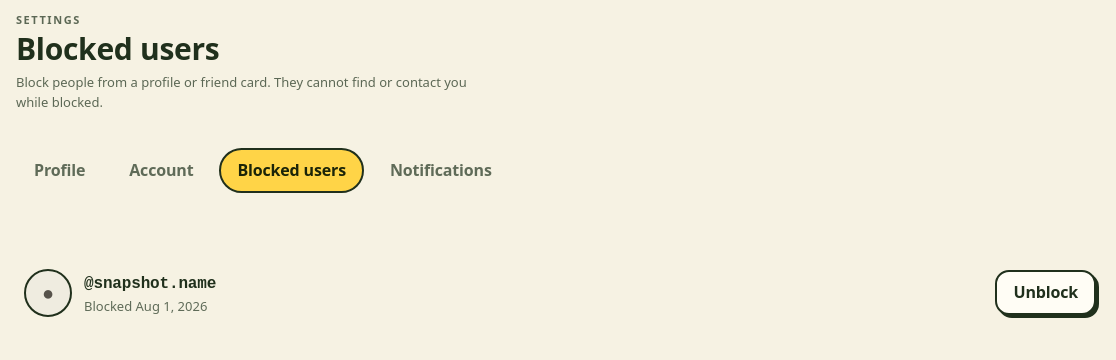
BlockedUsersPageTests › BlockAndUnblock_AreAvailableInTheWebMvp_D059
Check: the text "Block people from a profile or friend card" is shown, box left=16, top=72, right=467, bottom=111
What coordinates should you click on to do the following:
click the button with aria-label "Unblock @snapshot.name"
I would click on:
 (1046, 293)
Its box is left=996, top=270, right=1096, bottom=315.
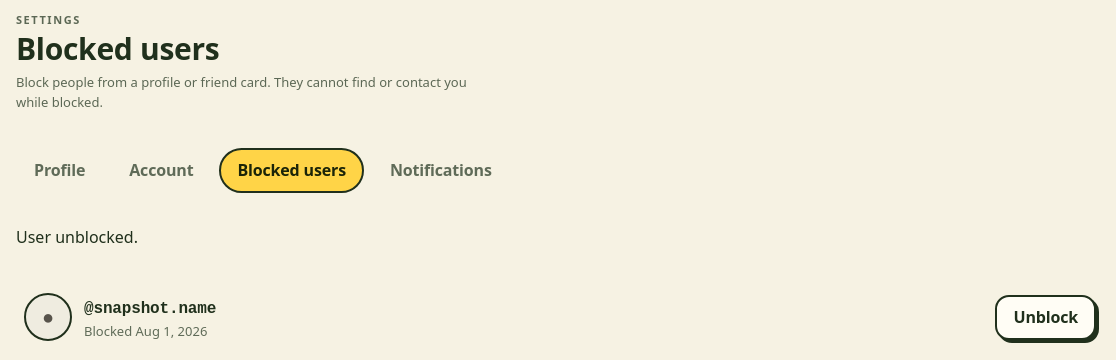
Check: the text "User unblocked." is shown, box left=16, top=226, right=138, bottom=248
